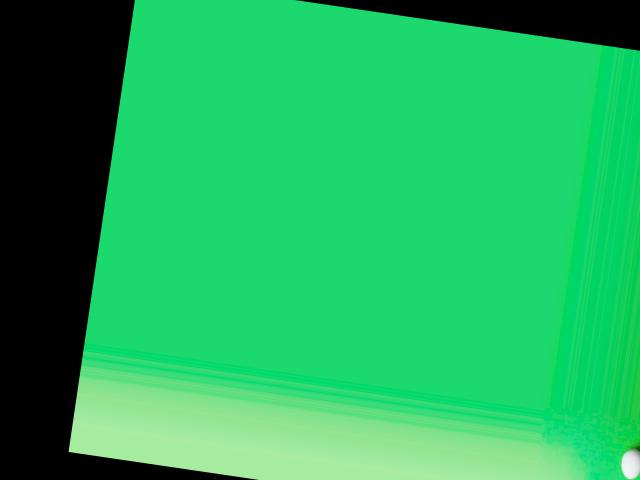egg: (619, 447, 640, 480)
